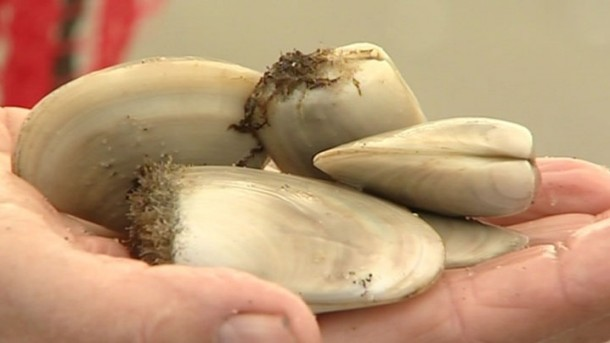tuatua: (126, 158, 447, 315), (9, 53, 281, 201), (308, 109, 541, 218), (247, 39, 428, 171)
